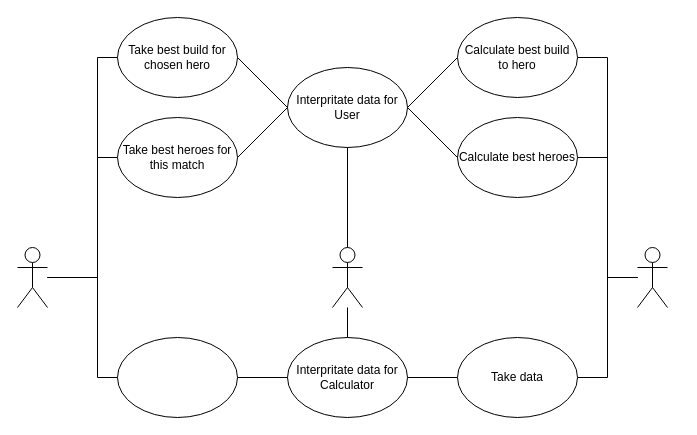
Some shapes in this 697 by 435 pixel diagram are drawn without their labels. Each missing label, with the centre of its shape:
"Calculator" goes at [652,277].
"Give data from match" goes at [177,377].
"Program" goes at [347,277].
"User" goes at [32,277].
